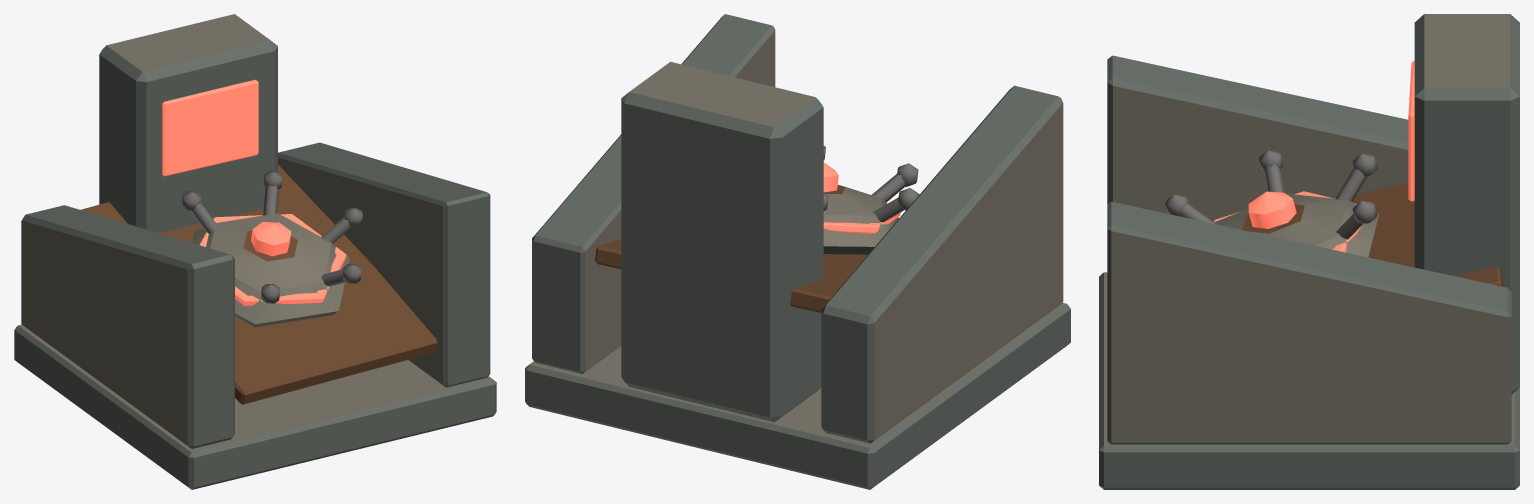
File: R4X_ExplosiveTrapDeployer_LOD1.fbx
3 views of the same model, side by side, from view 1: azimuth 30°, elevation 25°; view 2: azimuth 150°, elevation 25°; view 3: azimuth 270°, elevation 25° (orthographic). The views are drawn at different scales.
Visible parts, largest first — view 1: R4X_ExplosiveTrapDeployer_LOD1; view 2: R4X_ExplosiveTrapDeployer_LOD1; view 3: R4X_ExplosiveTrapDeployer_LOD1.
Boxes of the visible parts, left/top/right/bottom form: R4X_ExplosiveTrapDeployer_LOD1: left=14, top=14, right=496, bottom=489; R4X_ExplosiveTrapDeployer_LOD1: left=525, top=14, right=1070, bottom=489; R4X_ExplosiveTrapDeployer_LOD1: left=1099, top=14, right=1519, bottom=489.
Size of the model in its own units: 0.52 by 0.48 by 0.52.
